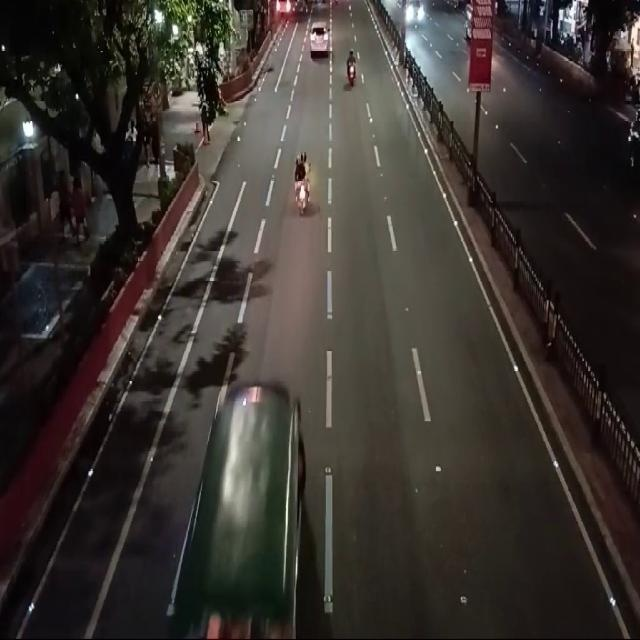car: (303, 17, 335, 62)
motorcycle: (289, 144, 316, 229), (344, 44, 360, 94)
